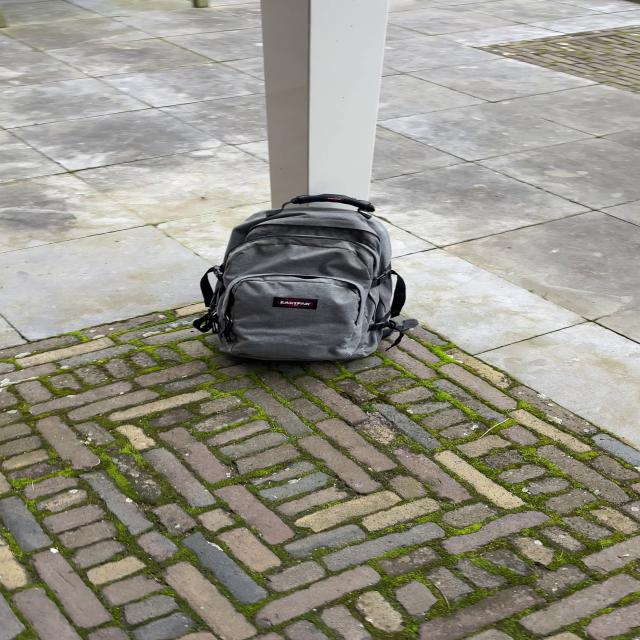backpack: (187, 188, 417, 371)
